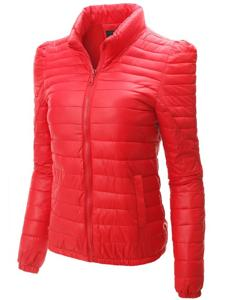C_jacket: (17, 1, 209, 299)
